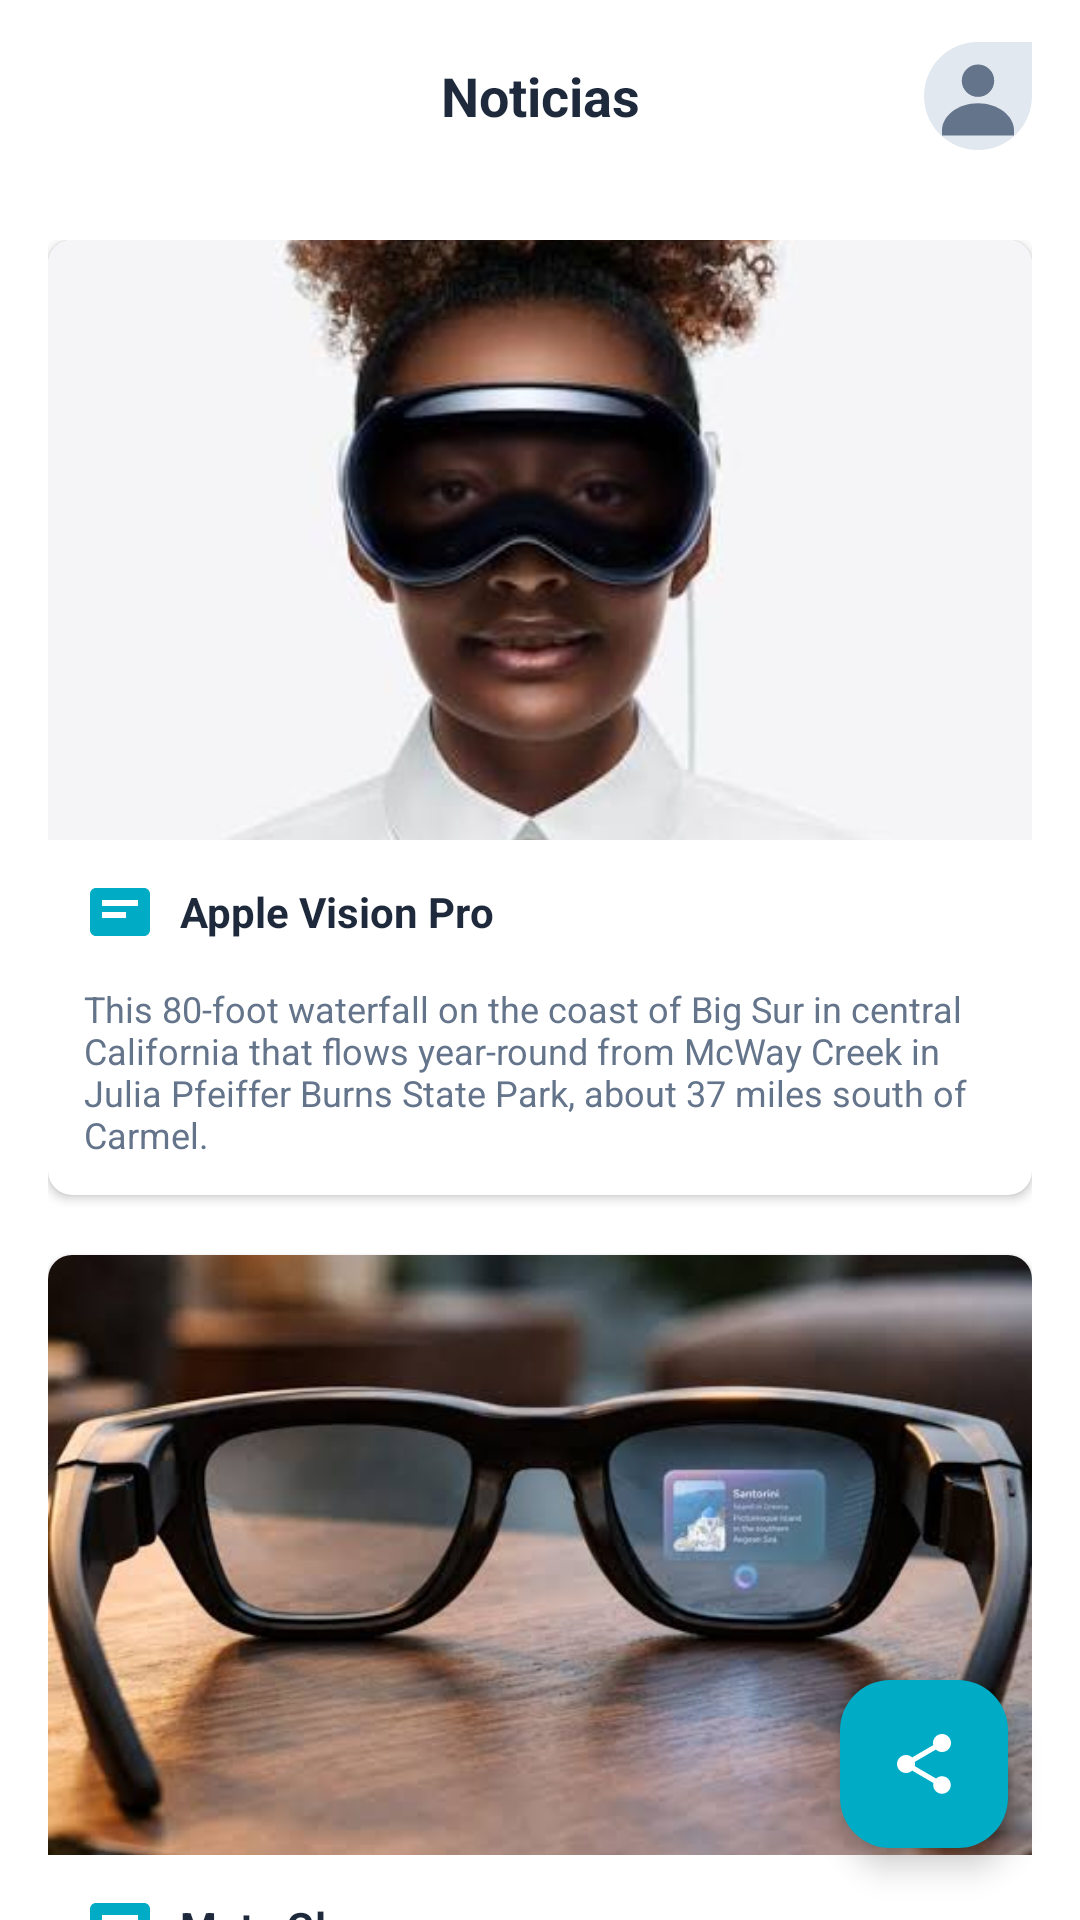

Point at icon controls on the screen. Image size 1080*1920, points as (x,y).
Compartir: (924,1764)
Perfil: (978,96)
